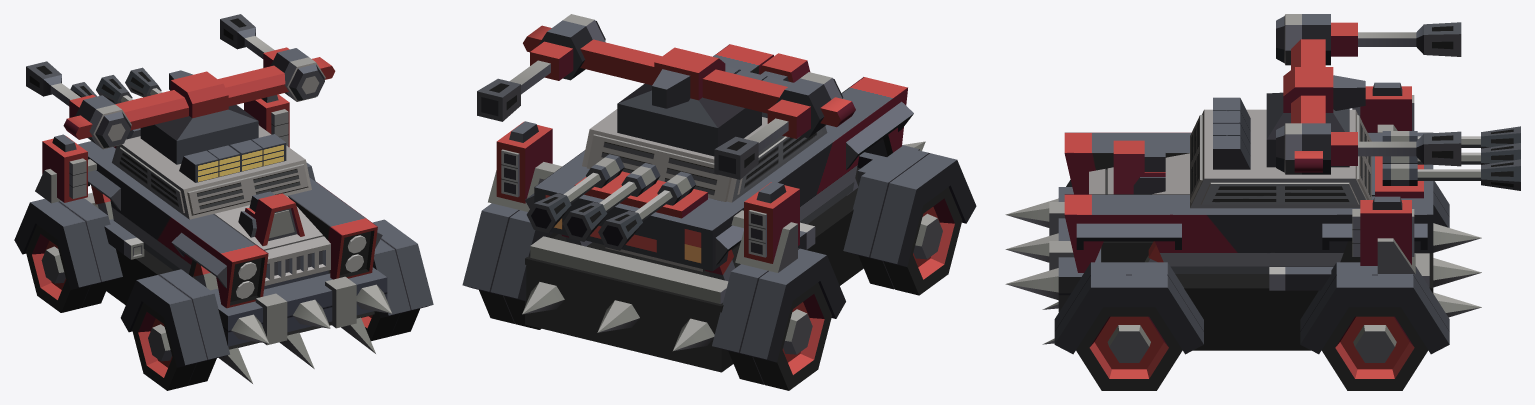
The model's file is NPC_car_302006.FBX.
The picture shows the model from 3 angles, left to right: view 1: azimuth 30°, elevation 25°; view 2: azimuth 150°, elevation 25°; view 3: azimuth 270°, elevation 25°; orthographic projection. The views are drawn at different scales.
Parts seen in each view (by area): view 1: NPC_car_302006_0, NPC_car_302006_2, NPC_car_302006_1; view 2: NPC_car_302006_0, NPC_car_302006_2, NPC_car_302006_1; view 3: NPC_car_302006_0, NPC_car_302006_2, NPC_car_302006_1.
Part boxes in pixels (bbox=[...]): NPC_car_302006_0: bbox=[14, 67, 433, 390]; NPC_car_302006_2: bbox=[26, 14, 335, 149]; NPC_car_302006_1: bbox=[35, 94, 289, 203]; NPC_car_302006_0: bbox=[462, 44, 976, 390]; NPC_car_302006_2: bbox=[477, 14, 855, 179]; NPC_car_302006_1: bbox=[488, 121, 799, 272]; NPC_car_302006_0: bbox=[1005, 92, 1520, 390]; NPC_car_302006_2: bbox=[1276, 14, 1461, 174]; NPC_car_302006_1: bbox=[1352, 82, 1415, 273].
Bounding box in the file's own units: 80.96 × 63.97 × 120.
